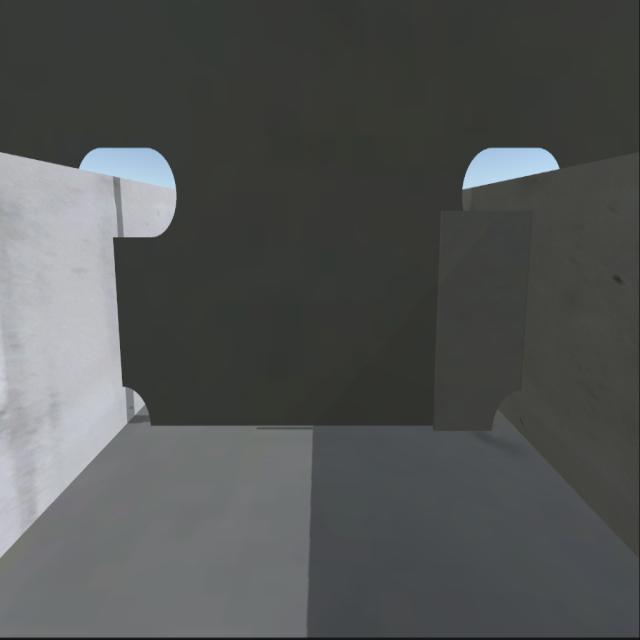fillet_hole: (117, 382, 159, 429), (489, 381, 522, 433)
fillet_yong_jeop_jang: (150, 423, 488, 430)
longi_yong_jeop_jang: (516, 212, 532, 390), (110, 240, 126, 383)
plate_CP01: (428, 213, 524, 429)
